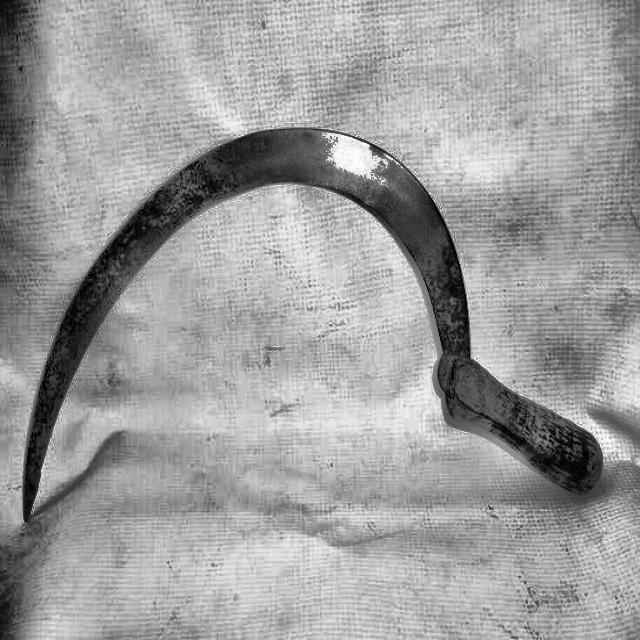celurit: (16, 102, 608, 539)
